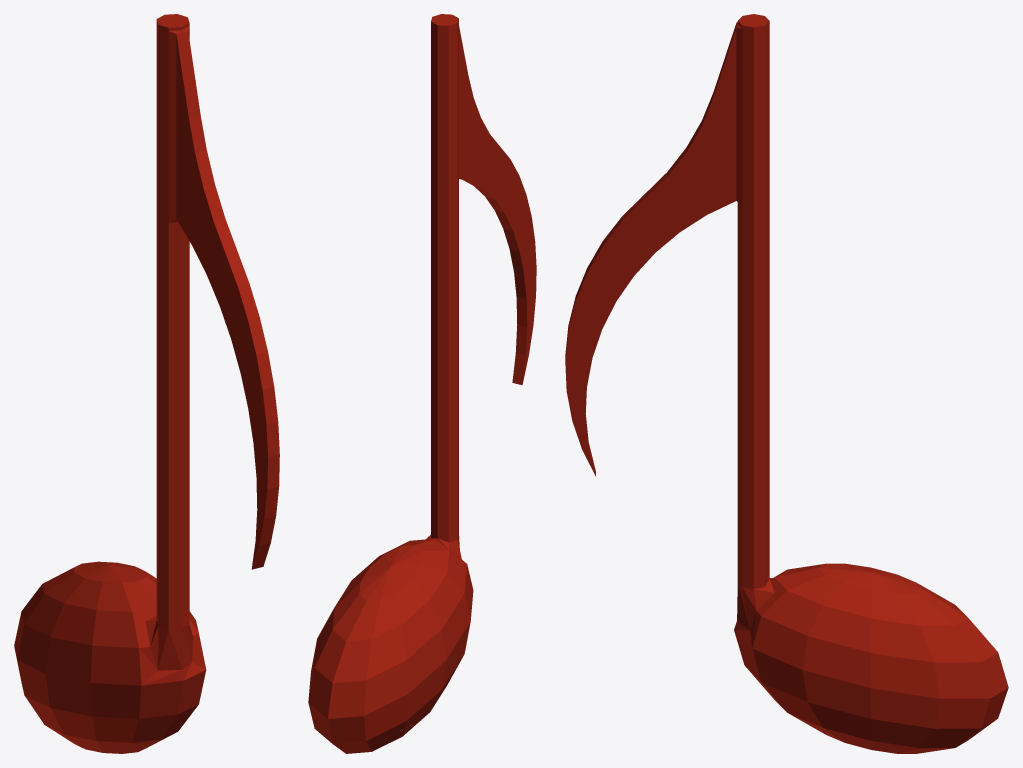
The model's file is music3.obj.
3 views of the same model, side by side, from view 1: azimuth 30°, elevation 25°; view 2: azimuth 150°, elevation 25°; view 3: azimuth 270°, elevation 25° (orthographic). The views are drawn at different scales.
Parts seen in each view (by area): view 1: Mesh_Mesh_MusicNote; view 2: Mesh_Mesh_MusicNote; view 3: Mesh_Mesh_MusicNote.
Part boxes in pixels (x1,y1,x2,y2): Mesh_Mesh_MusicNote: (14, 14, 279, 753); Mesh_Mesh_MusicNote: (308, 14, 536, 753); Mesh_Mesh_MusicNote: (565, 14, 1008, 753).
Bounding box in the file's own units: 2.2 × 12.65 × 6.97.
